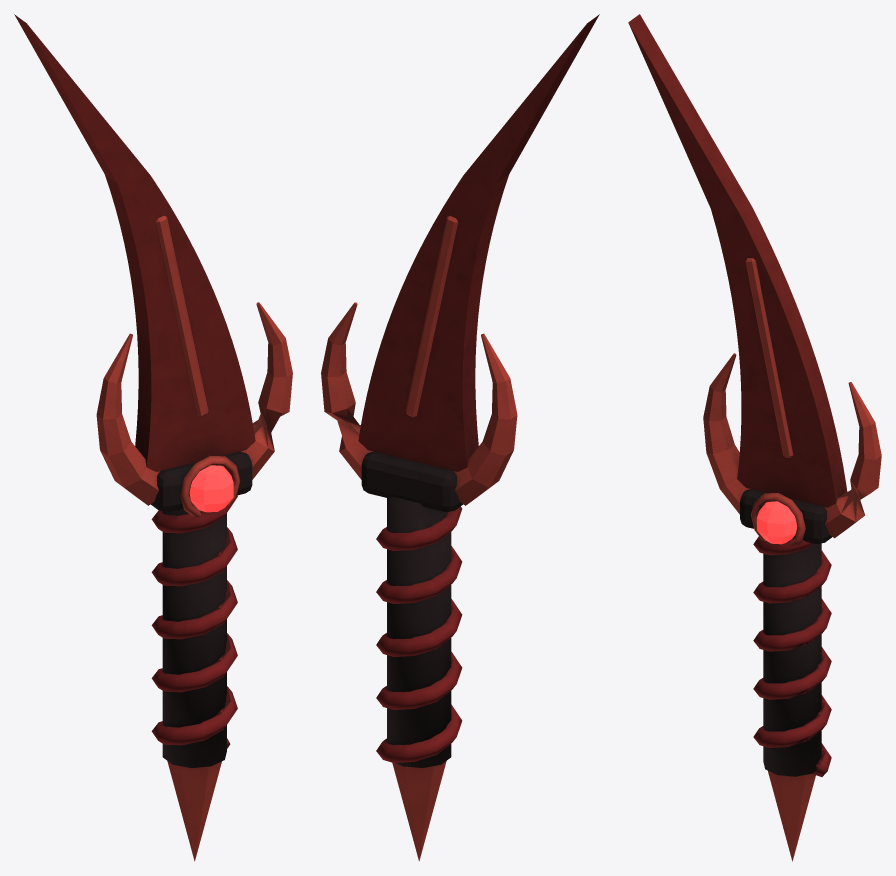
The model's file is 07_hell_dagger.fbx.
3 views of the same model, side by side, from view 1: azimuth 30°, elevation 25°; view 2: azimuth 150°, elevation 25°; view 3: azimuth 330°, elevation 25° (orthographic). The views are drawn at different scales.
Visible parts, largest first — view 1: Weapon; view 2: Weapon; view 3: Weapon.
Part boxes in pixels (x1=…): Weapon: x1=14, y1=14, x2=292, y2=861; Weapon: x1=321, y1=14, x2=599, y2=861; Weapon: x1=628, y1=14, x2=881, y2=861.
Bounding box in the file's own units: 17.82 × 56 × 5.54.
2 materials, 1 textured.
